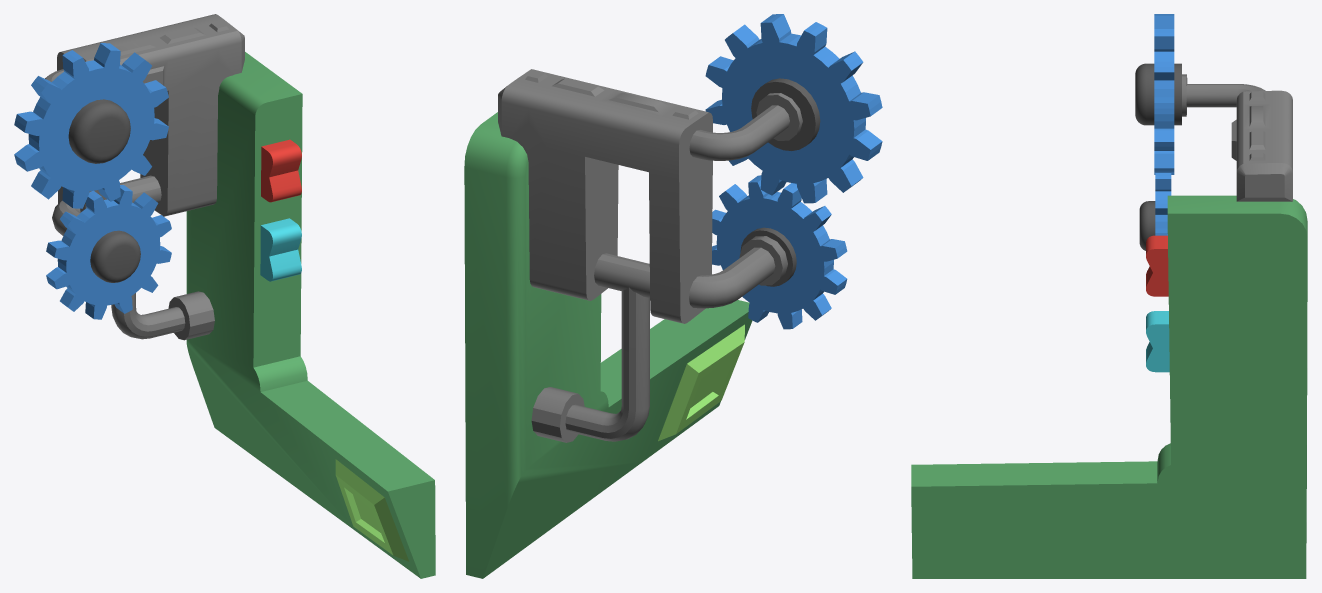
File: makinaEklenti.fbx
3 renders of one model, left to right at view 1: azimuth 30°, elevation 25°; view 2: azimuth 150°, elevation 25°; view 3: azimuth 270°, elevation 25°, orthographic. The views are drawn at different scales.
Visible parts, largest first — view 1: govdeYan, makinaEklenti, cark, cark2, maviDugme, kirmiziDugme; view 2: govdeYan, makinaEklenti, cark, cark2; view 3: govdeYan, makinaEklenti, cark, cark2, maviDugme, kirmiziDugme.
Part boxes in pixels (bbox=[...]): govdeYan: bbox=[186, 52, 435, 578]; makinaEklenti: bbox=[45, 14, 244, 340]; cark: bbox=[14, 43, 168, 208]; cark2: bbox=[46, 185, 171, 319]; maviDugme: bbox=[260, 218, 301, 281]; kirmiziDugme: bbox=[261, 139, 301, 202]; govdeYan: bbox=[464, 112, 752, 578]; makinaEklenti: bbox=[498, 69, 802, 442]; cark: bbox=[705, 14, 882, 203]; cark2: bbox=[712, 175, 847, 329]; govdeYan: bbox=[911, 195, 1307, 578]; makinaEklenti: bbox=[1182, 74, 1292, 201]; cark: bbox=[1135, 14, 1181, 174]; cark2: bbox=[1139, 173, 1171, 250]; maviDugme: bbox=[1146, 311, 1169, 372]; kirmiziDugme: bbox=[1146, 235, 1168, 296].
Size of the model in its own units: 473 by 761 by 597.
